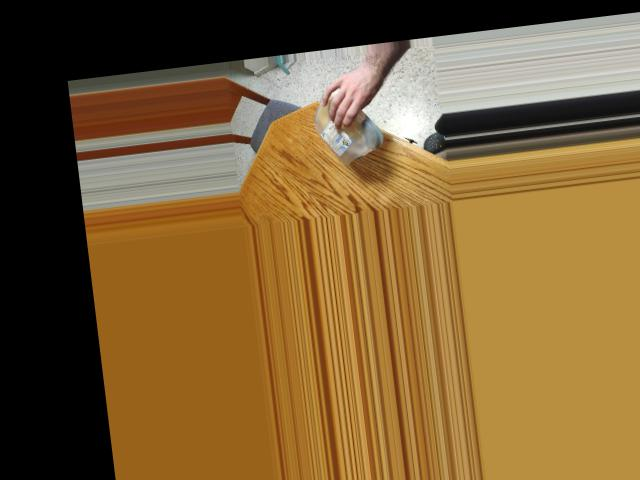cheese: (307, 79, 381, 165)
